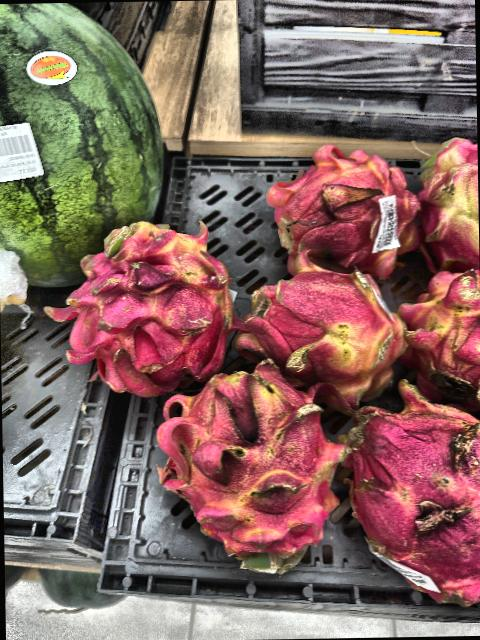buah-naga-belum-matang: (158, 366, 343, 574), (52, 210, 236, 384), (250, 258, 400, 401), (397, 265, 480, 399), (412, 134, 479, 259)
buah-naga-matang: (347, 383, 480, 599), (250, 140, 418, 271)
